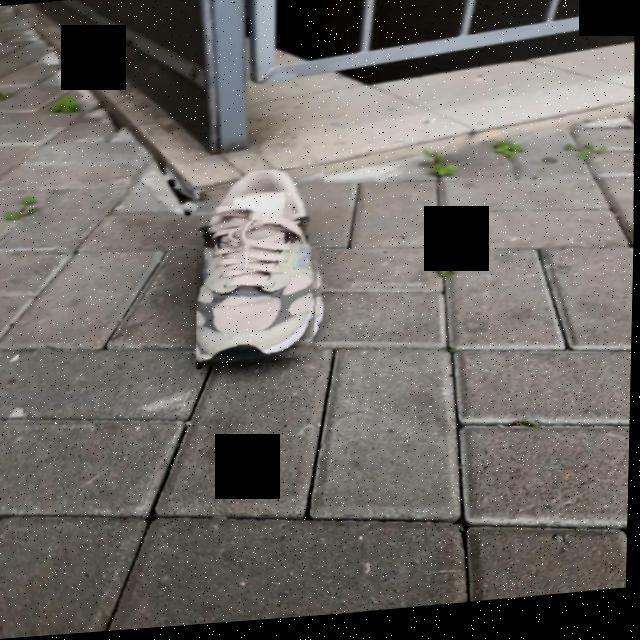shoe: (197, 173, 320, 372)
